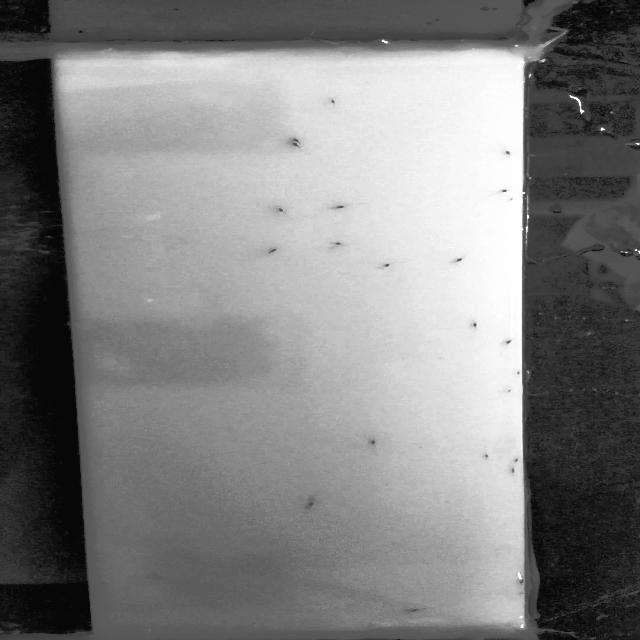shrimp: (328, 200, 356, 218), (467, 316, 492, 334), (408, 605, 436, 619), (449, 256, 475, 271), (259, 247, 283, 261), (304, 498, 325, 512), (364, 435, 384, 449), (324, 96, 347, 108), (379, 258, 398, 272), (275, 206, 295, 219), (326, 236, 344, 250), (492, 188, 512, 200), (285, 142, 307, 152), (504, 455, 522, 467), (507, 467, 526, 477), (505, 334, 518, 348), (478, 450, 496, 460), (496, 149, 516, 157), (501, 382, 512, 394), (149, 570, 162, 580), (292, 137, 298, 146)
